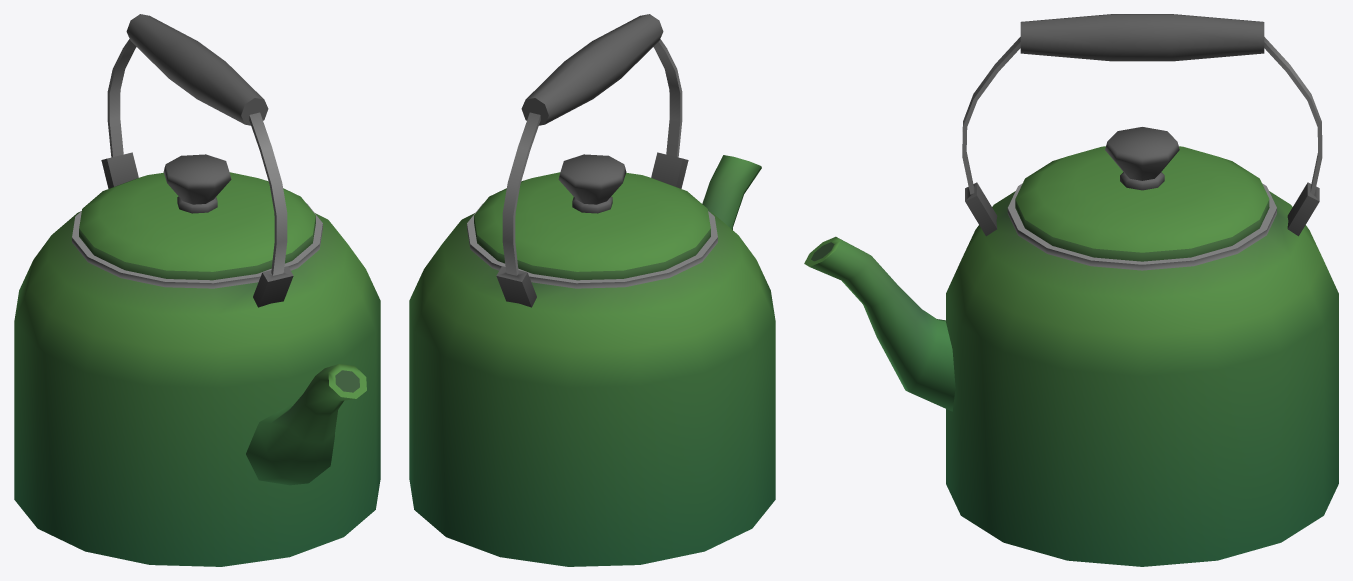
3 views of the same model, side by side, from view 1: azimuth 30°, elevation 25°; view 2: azimuth 150°, elevation 25°; view 3: azimuth 270°, elevation 25° (orthographic). The views are drawn at different scales.
Parts seen in each view (by area): view 1: Kettle; view 2: Kettle; view 3: Kettle.
Part boxes in pixels (x1,y1,x2,y2): Kettle: [14, 14, 380, 566]; Kettle: [409, 14, 775, 566]; Kettle: [804, 14, 1338, 566].
Bounding box in the file's own units: 0.3674 × 0.484 × 0.5.
